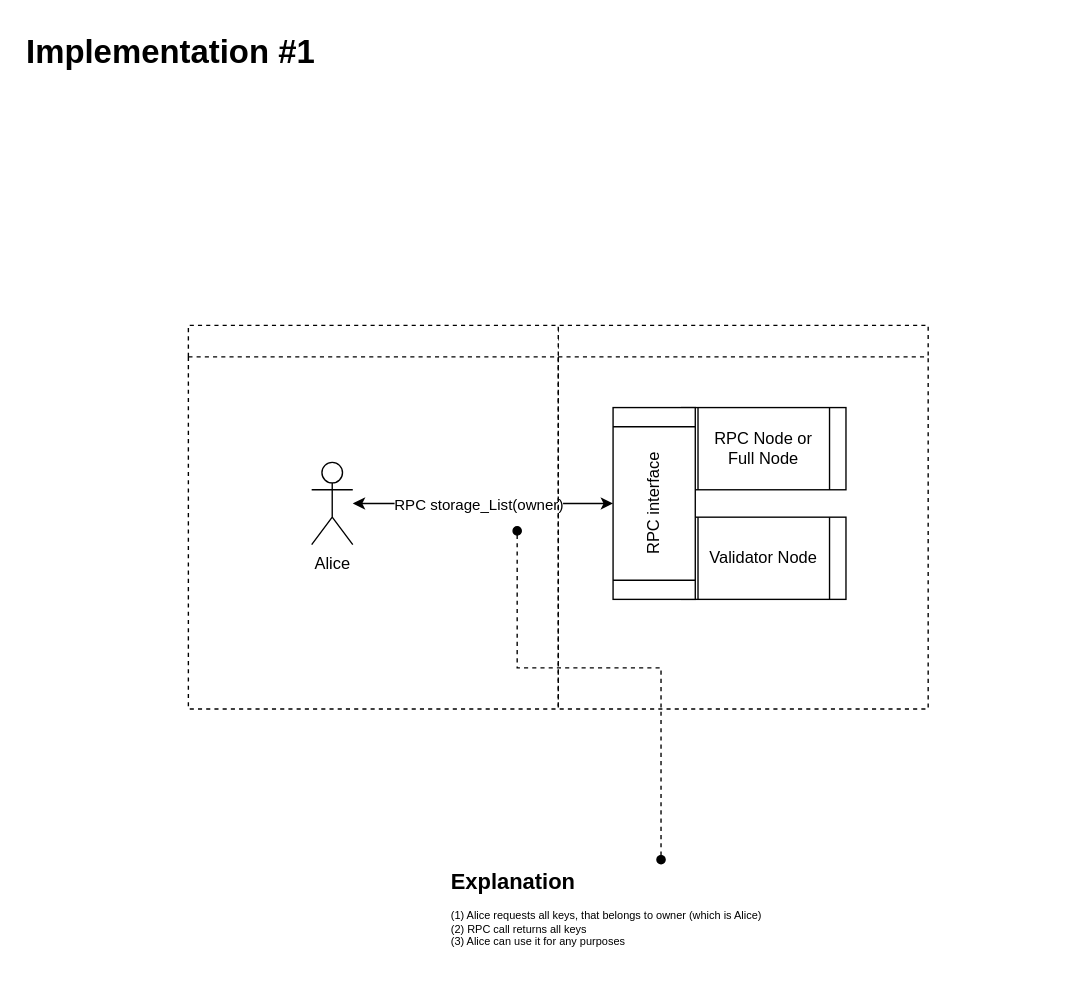
Some shapes in this 1088 by 996 pixel diagram are drawn without their labels. Each missing label, with the box of its shape:
Off-Chain Execution: (187, 324, 558, 709)
On-Chain Execution: (557, 324, 928, 709)
